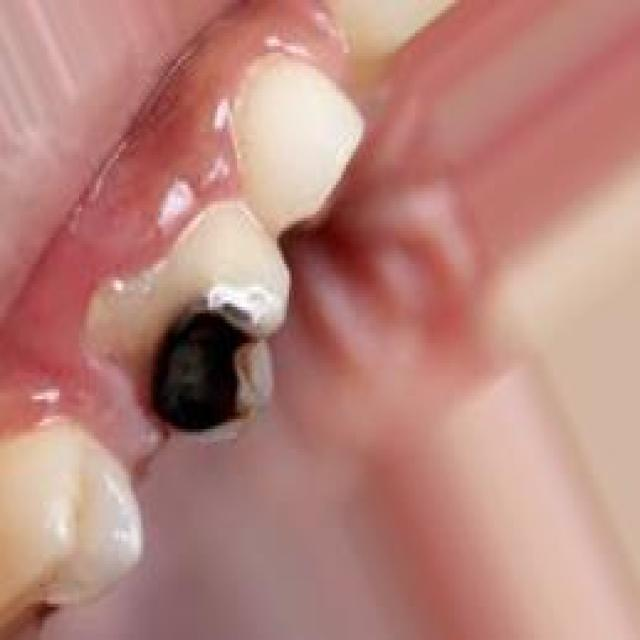caries: (125, 273, 285, 464)
